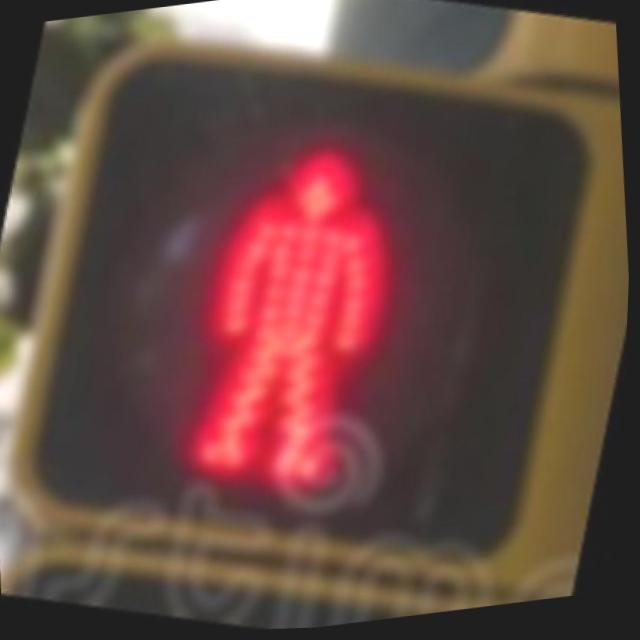red_light: (24, 16, 603, 598)
